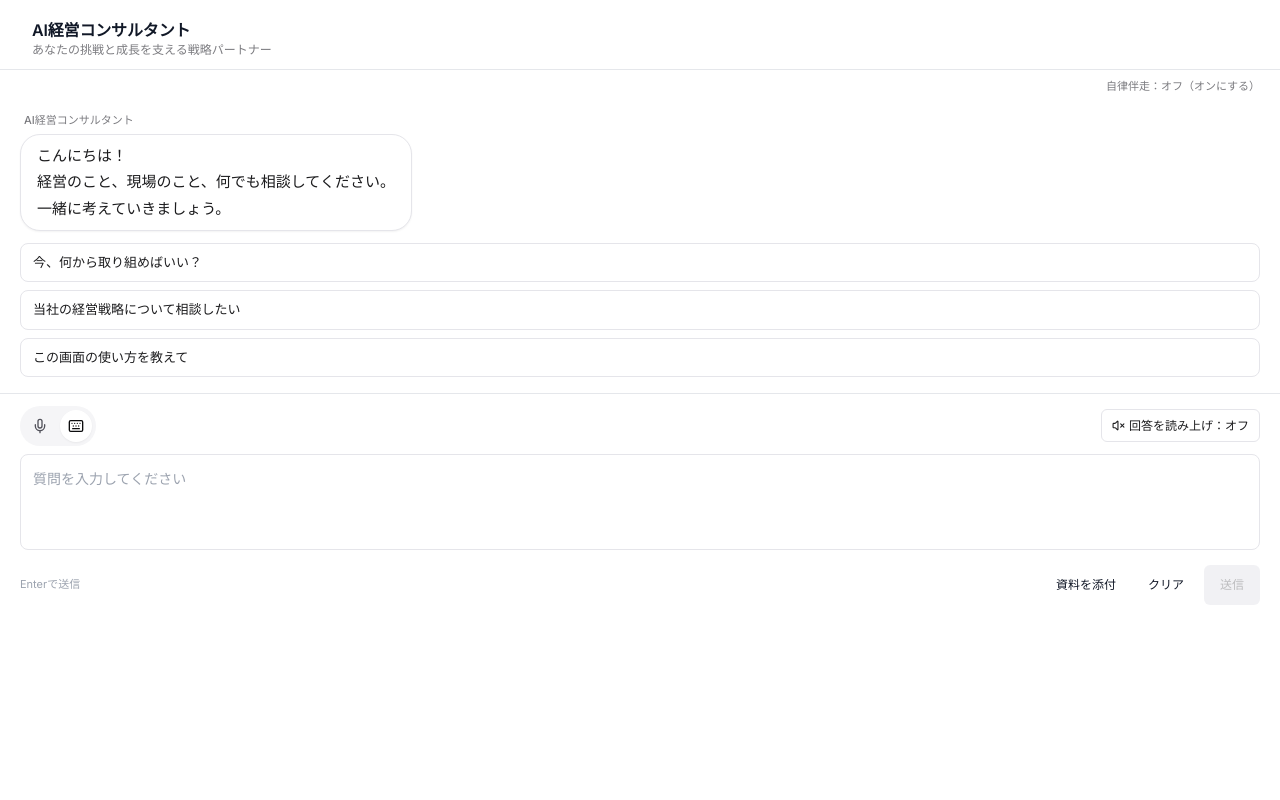
Test: 企業切替と送信ゲート › 企業情報が無い（画面の企業が null）場合も送信せず、入力を保持する
In the text box: x=640, y=502 top-left (20, 454), bottom-right (1260, 550), type "質問"
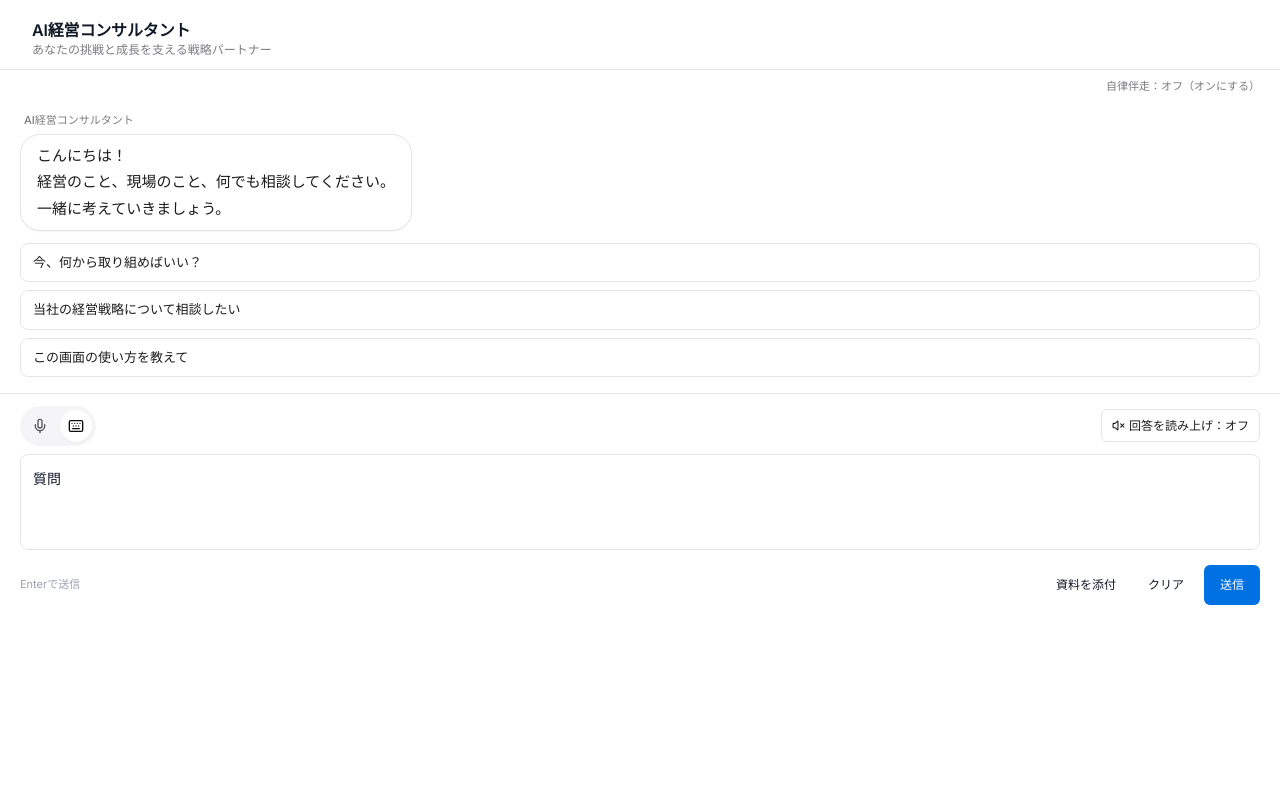
Result: the button "送信" is enabled
Click the button "送信": x=1232, y=585 top-left (1204, 565), bottom-right (1260, 605)
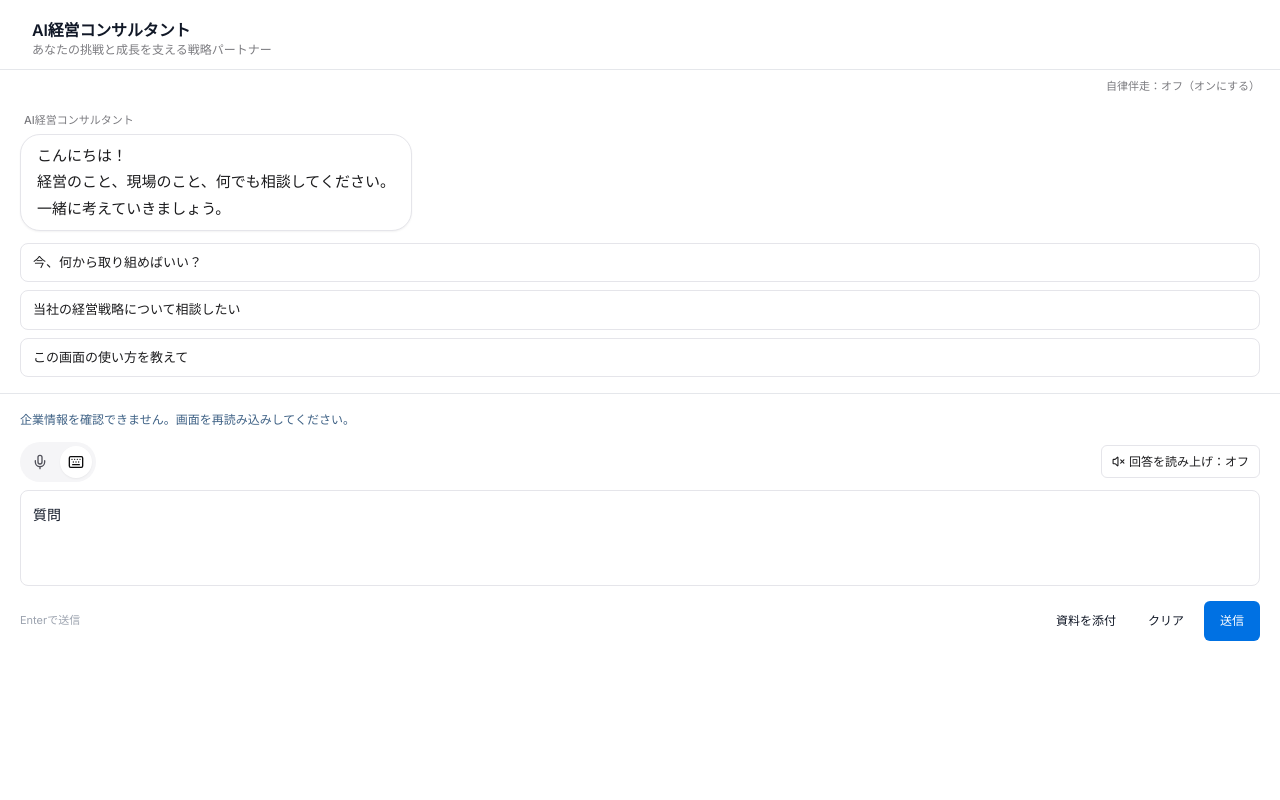
Result: the message shows "企業情報を確認できません" at top-left (20, 412), bottom-right (355, 427)
